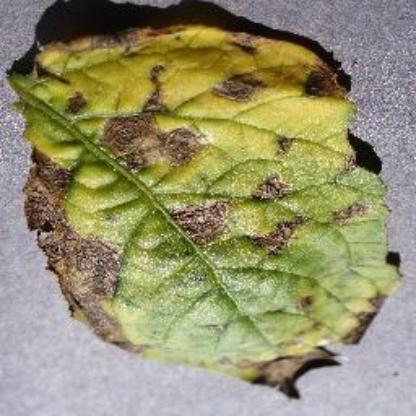Early-Blight: (5, 23, 408, 401)
